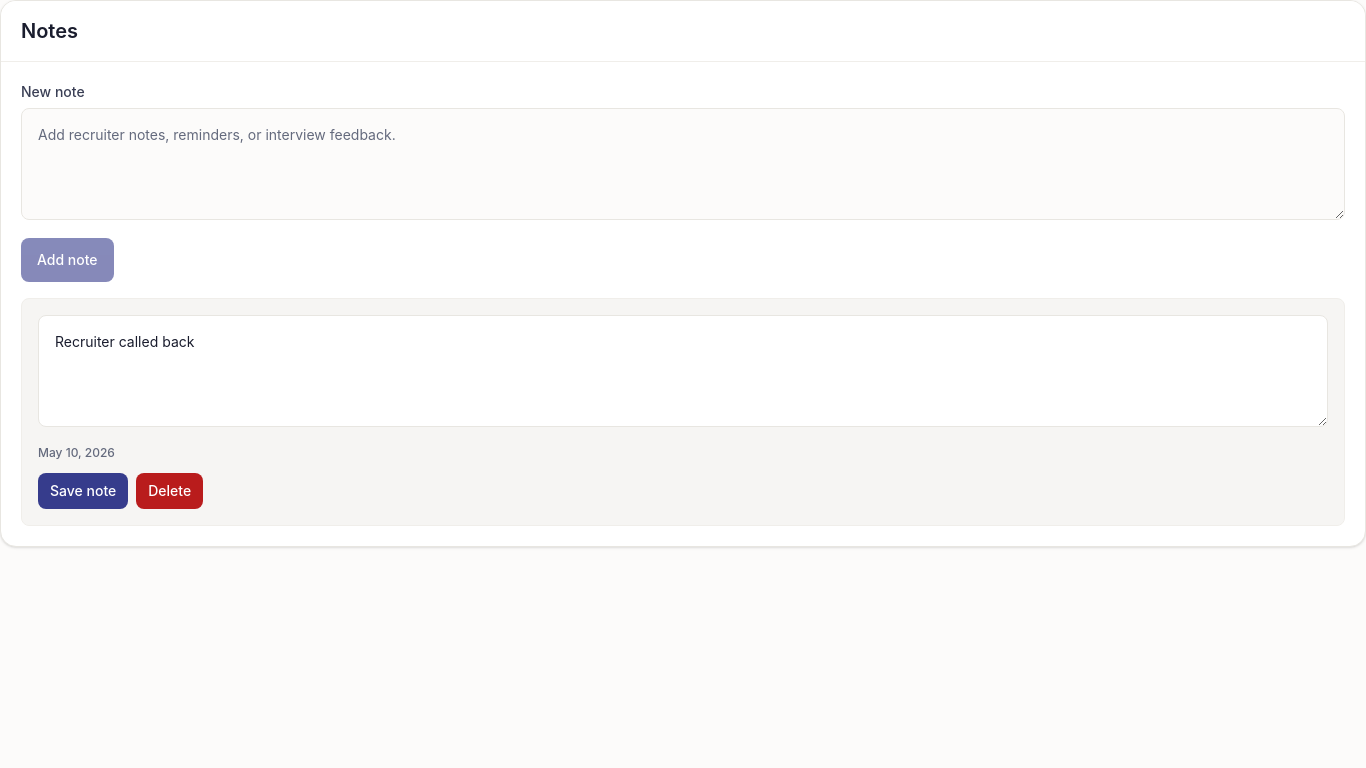
Scenario: JobDetailNotesPanel › clears a stale mutation error once a later write succeeds
Type "Ask about team rituals" into the text box labelled "New note" at (683, 164), box 21,108 -> 1345,220
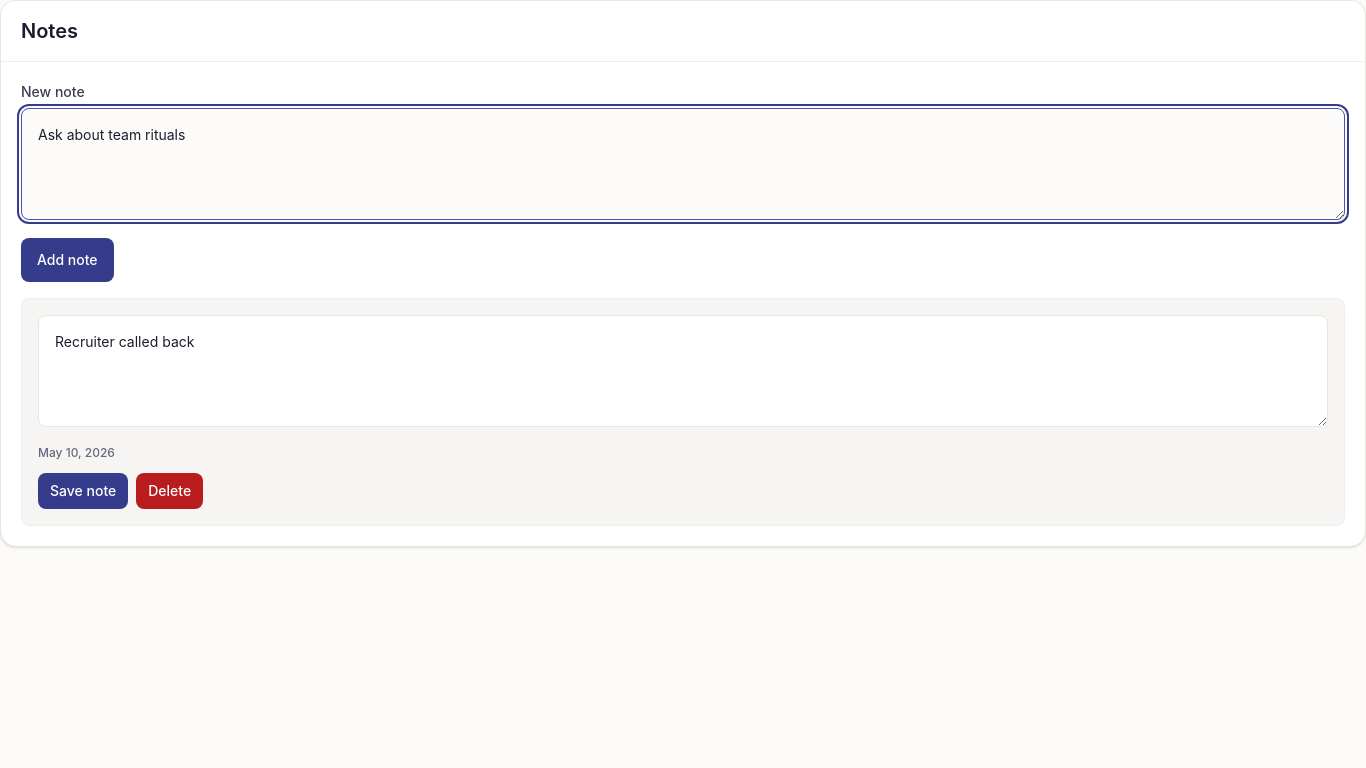
Click the button "Add note" at (67, 260), box 21,238 -> 114,282
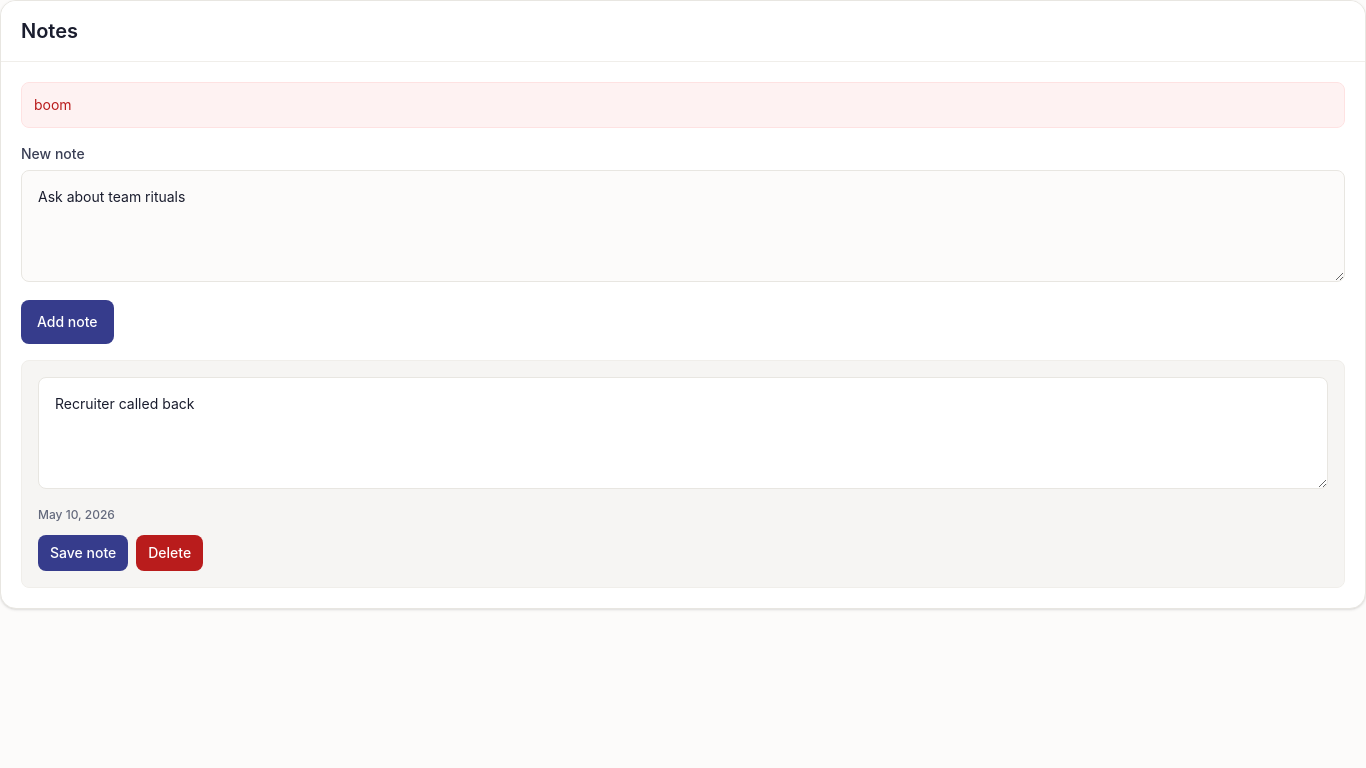
Expected: the message "boom" is shown, 21,82 -> 1345,128
Click the button with aria-label "Delete note from May 10, 2026" at (170, 553), box 136,535 -> 203,571
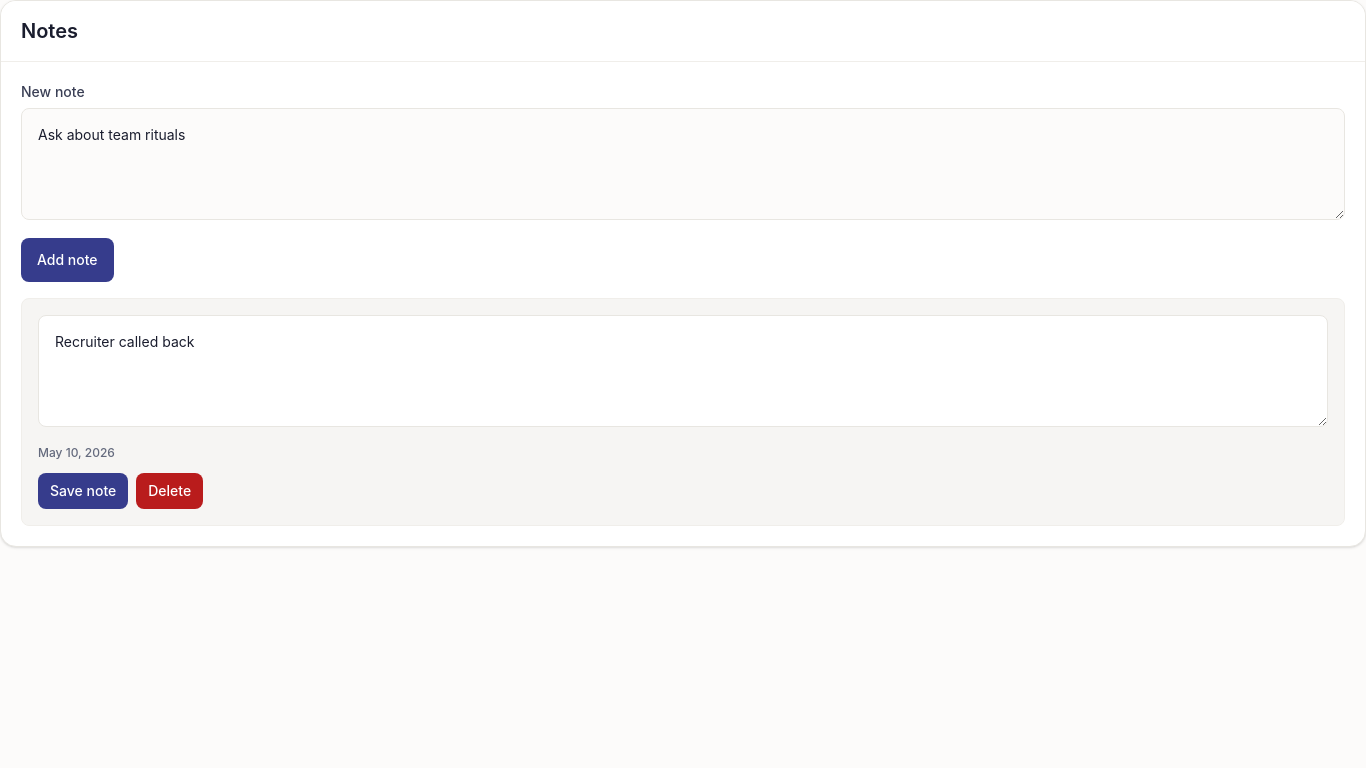
Expected: the message "boom" is gone
